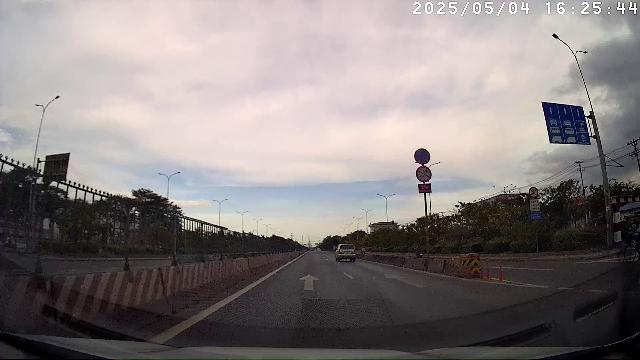130-cam-dung-va-do-xe: (414, 148, 432, 164)
